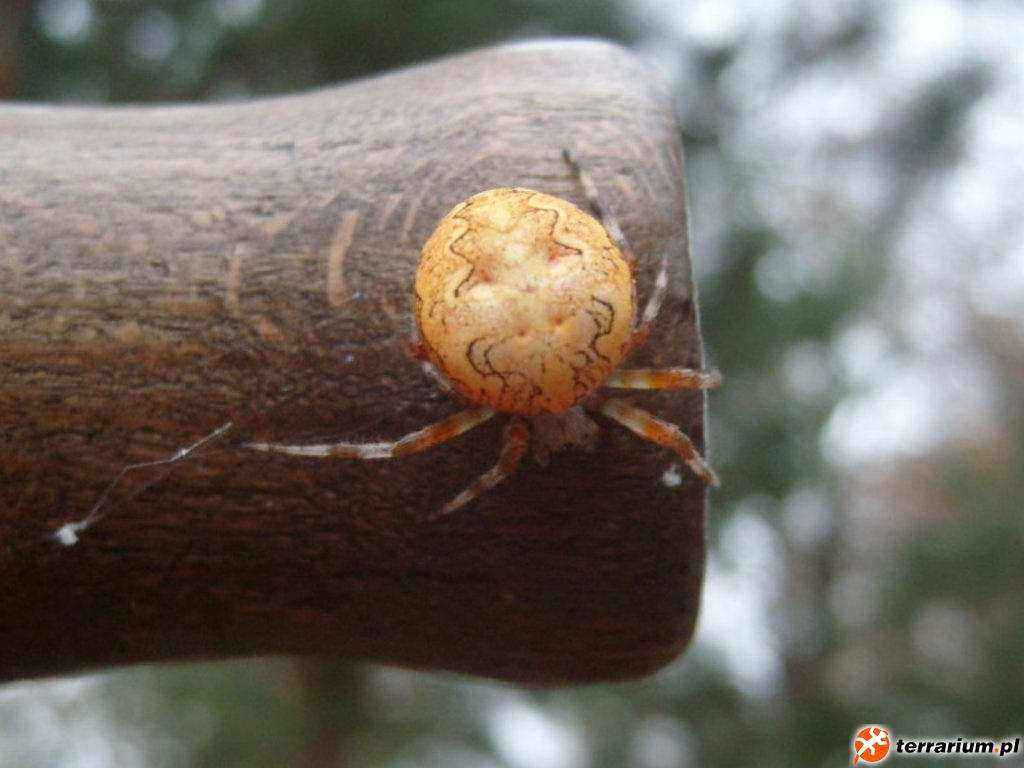spider: (222, 122, 727, 561)
